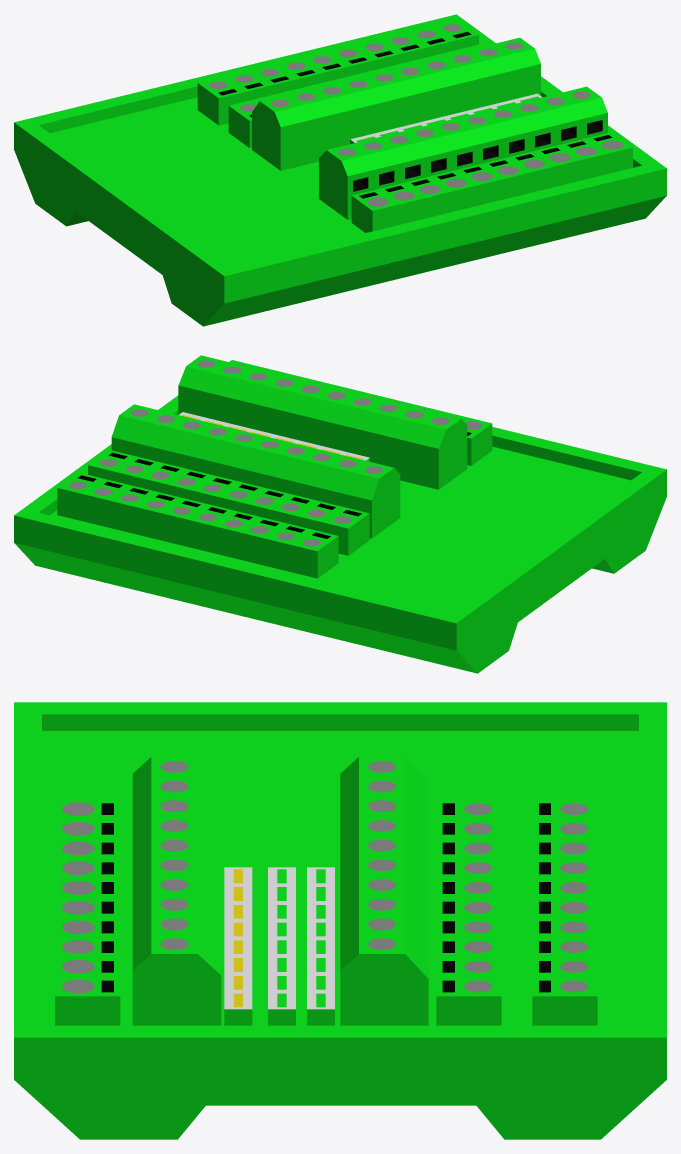
The model's file is contacto .fbx.
The picture shows the model from 3 angles, top to bottom: view 1: azimuth 30°, elevation 25°; view 2: azimuth 150°, elevation 25°; view 3: azimuth 270°, elevation 25°; orthographic projection. The views are drawn at different scales.
Visible parts, largest first — view 1: contactor; view 2: contactor; view 3: contactor.
Part boxes in pixels (bbox=[...]): contactor: bbox=[14, 14, 666, 326]; contactor: bbox=[14, 355, 666, 673]; contactor: bbox=[14, 702, 666, 1139].
Size of the model in its own units: 8500 by 2007 by 7000.
